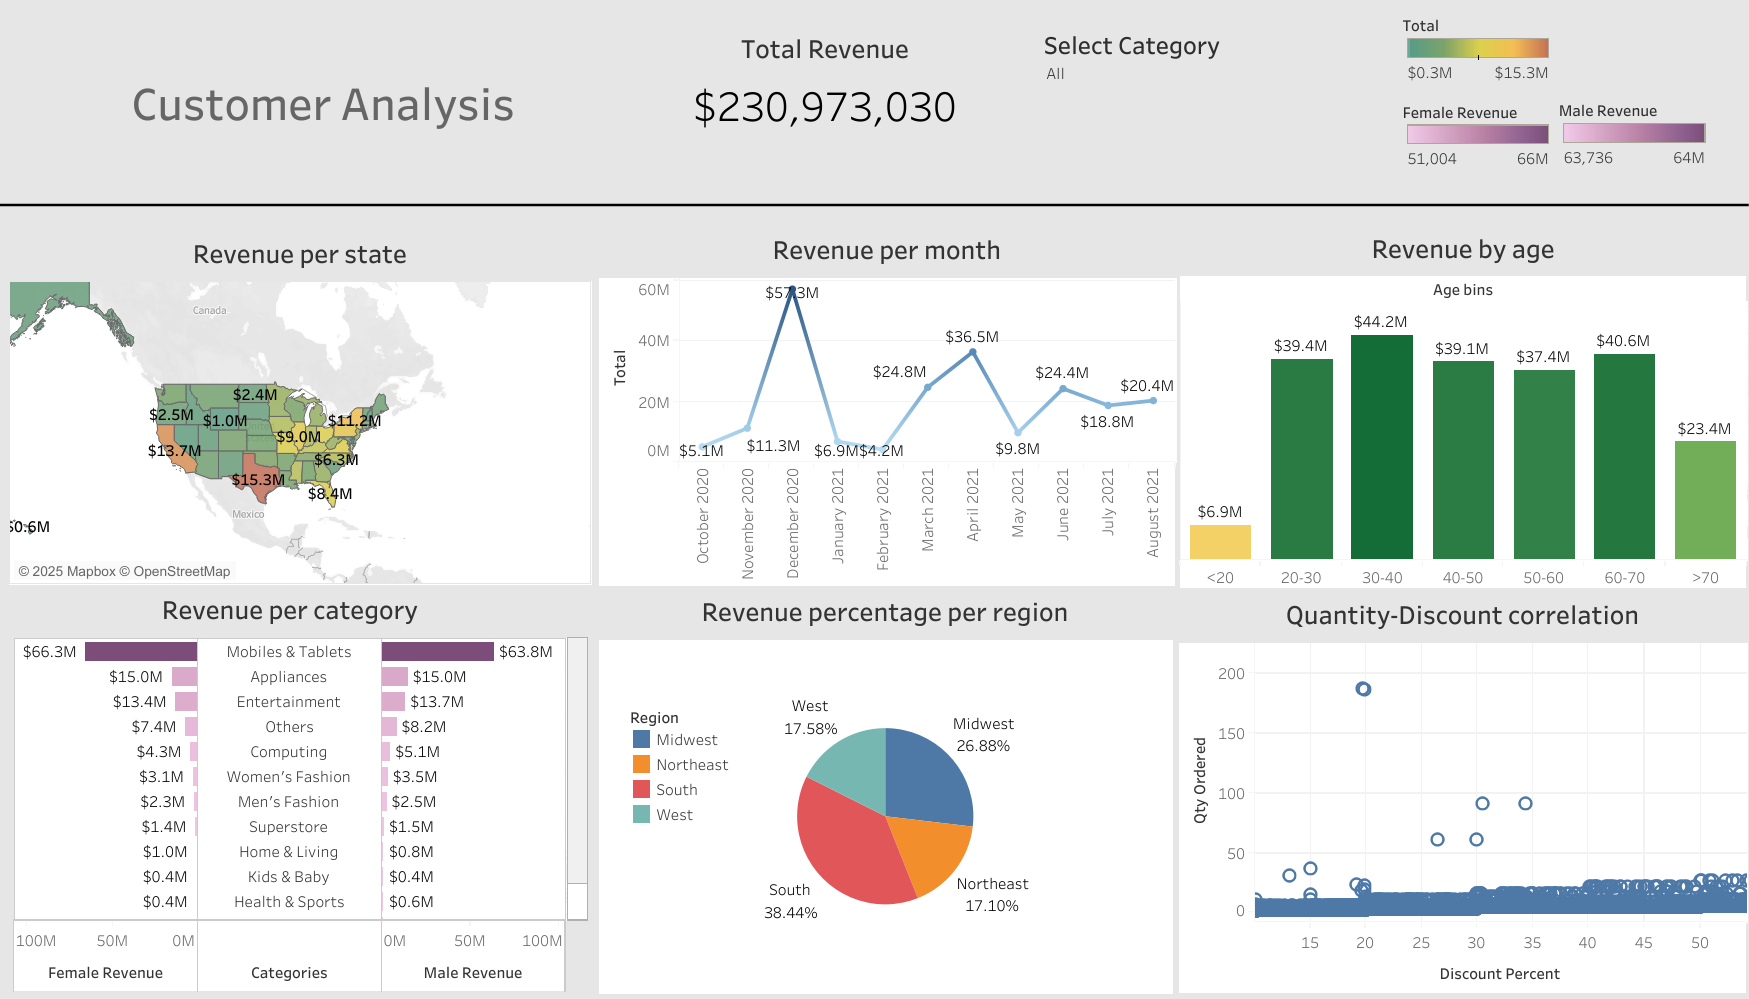

The page's visual inventory and layout, read from the dashboard file:
{"tool":"tableau","page":{"name":"Dashboard 1","canvas":[1600,800],"ordinal":0},"visuals":[{"type":"legend","title":"Revenue per state","param":"[federated.03q16gr1cbdifo1amilgt0903ua1].[sum:total:qk]","box":[1282,7,140,88]},{"type":"text","box":[9,8,573,146]},{"type":"worksheet","title":"Total Revenue","mark":"Automatic","box":[629,18,312,137]},{"type":"filter","title":"Revenue per category","param":"[federated.03q16gr1cbdifo1amilgt0903ua1].[none:category:nk]","box":[954,21,275,86]},{"type":"legend","title":"Revenue per category","param":"[federated.03q16gr1cbdifo1amilgt0903ua1].[sum:Calculation_852869210041360385:qk]","box":[1425,75,140,88]},{"type":"legend","title":"Revenue per category","param":"[federated.03q16gr1cbdifo1amilgt0903ua1].[sum:Calculation_852869210040889344:qk]","box":[1282,76,140,88]},{"type":"worksheet","title":"Revenue by age","mark":"Automatic","rows":["total"],"cols":["Age (bin)"],"box":[1079,178,518,292]},{"type":"worksheet","title":"Revenue per month","mark":"Automatic","rows":["total"],"cols":["month"],"box":[547,179,527,290]},{"type":"worksheet","title":"Revenue per state","mark":"Automatic","box":[8,182,533,286]},{"type":"worksheet","title":"Revenue per category","mark":"Automatic","rows":["category"],"cols":["Calculation_852869210040889344","Calculation_852869210042093570","Calculation_852869210041360385"],"box":[13,467,526,327]},{"type":"worksheet","title":"Revenue percentage per region","mark":"Pie","box":[547,469,524,325]},{"type":"worksheet","title":"Quantity-Discount correlation","mark":"Automatic","rows":["qty_ordered"],"cols":["Discount_Percent"],"box":[1078,471,525,323]},{"type":"legend","title":"Revenue percentage per region","param":"[federated.03q16gr1cbdifo1amilgt0903ua1].[none:Region:nk]","box":[575,562,140,106]}]}

Visuals, with their boxes on the page's 1600x800 design canvas (x1, y1, x2, y2). These are canvas units, not pixel positions in the 1749x999 screenshot, which may show the page scaled, cropped or inside an application window:
"Revenue per state" legend: (1282,7,1422,95)
text: (9,8,582,154)
"Total Revenue" worksheet: (629,18,941,155)
"Revenue per category" filter: (954,21,1229,107)
"Revenue per category" legend: (1425,75,1565,163)
"Revenue per category" legend: (1282,76,1422,164)
"Revenue by age" worksheet: (1079,178,1597,470)
"Revenue per month" worksheet: (547,179,1074,469)
"Revenue per state" worksheet: (8,182,541,468)
"Revenue per category" worksheet: (13,467,539,794)
"Revenue percentage per region" worksheet (Pie marks): (547,469,1071,794)
"Quantity-Discount correlation" worksheet: (1078,471,1603,794)
"Revenue percentage per region" legend: (575,562,715,668)
